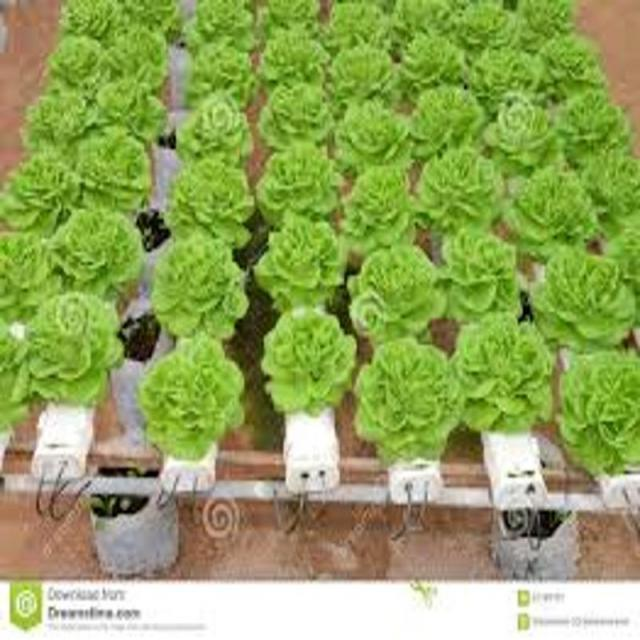Lettuce: (348, 330, 460, 463), (524, 242, 638, 356), (452, 315, 555, 438), (144, 337, 248, 458), (22, 294, 126, 408), (154, 233, 254, 350), (553, 348, 640, 481), (264, 310, 358, 418), (352, 243, 446, 347), (435, 223, 525, 330), (252, 213, 346, 315), (505, 158, 598, 258), (52, 202, 143, 296), (423, 145, 510, 242), (72, 123, 160, 217), (173, 156, 260, 246), (260, 136, 347, 226), (483, 88, 567, 177), (0, 153, 78, 246), (408, 80, 494, 162), (175, 92, 262, 170), (343, 162, 422, 246), (0, 231, 71, 324), (581, 140, 640, 245), (397, 28, 485, 98), (340, 98, 417, 177), (190, 30, 265, 105), (92, 76, 172, 146), (263, 78, 340, 150), (477, 40, 555, 110), (17, 78, 90, 152), (558, 88, 628, 165), (328, 42, 402, 108), (107, 25, 178, 88), (263, 28, 330, 94), (450, 0, 527, 55), (42, 30, 110, 90), (326, 0, 395, 58), (536, 32, 606, 88), (178, 0, 263, 46), (378, 0, 463, 43), (52, 0, 126, 45), (512, 0, 588, 35), (124, 0, 181, 36), (253, 0, 328, 26)
